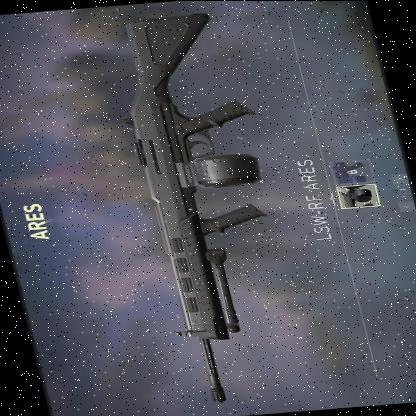rifle: (96, 7, 334, 406)
